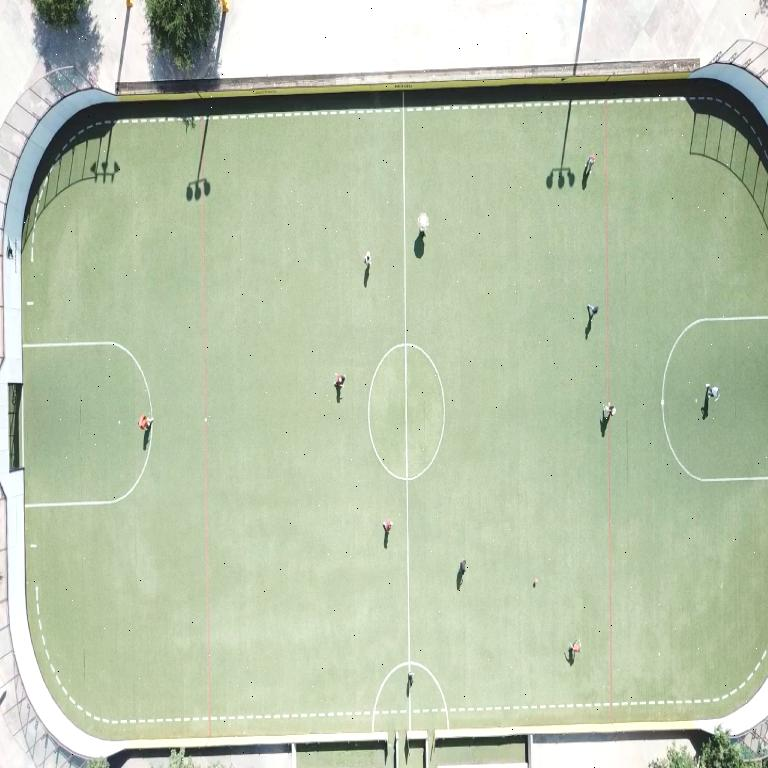AC: (661, 316, 767, 482), (22, 342, 152, 417)
B: (533, 578, 538, 587)
MC: (402, 93, 410, 674)
P: (334, 375, 344, 402), (417, 213, 428, 236), (138, 414, 153, 430), (583, 155, 594, 176), (705, 384, 719, 399), (603, 403, 615, 419), (586, 304, 597, 319), (382, 519, 391, 534), (409, 672, 414, 694), (364, 251, 370, 268), (571, 642, 580, 653), (459, 559, 465, 575)
